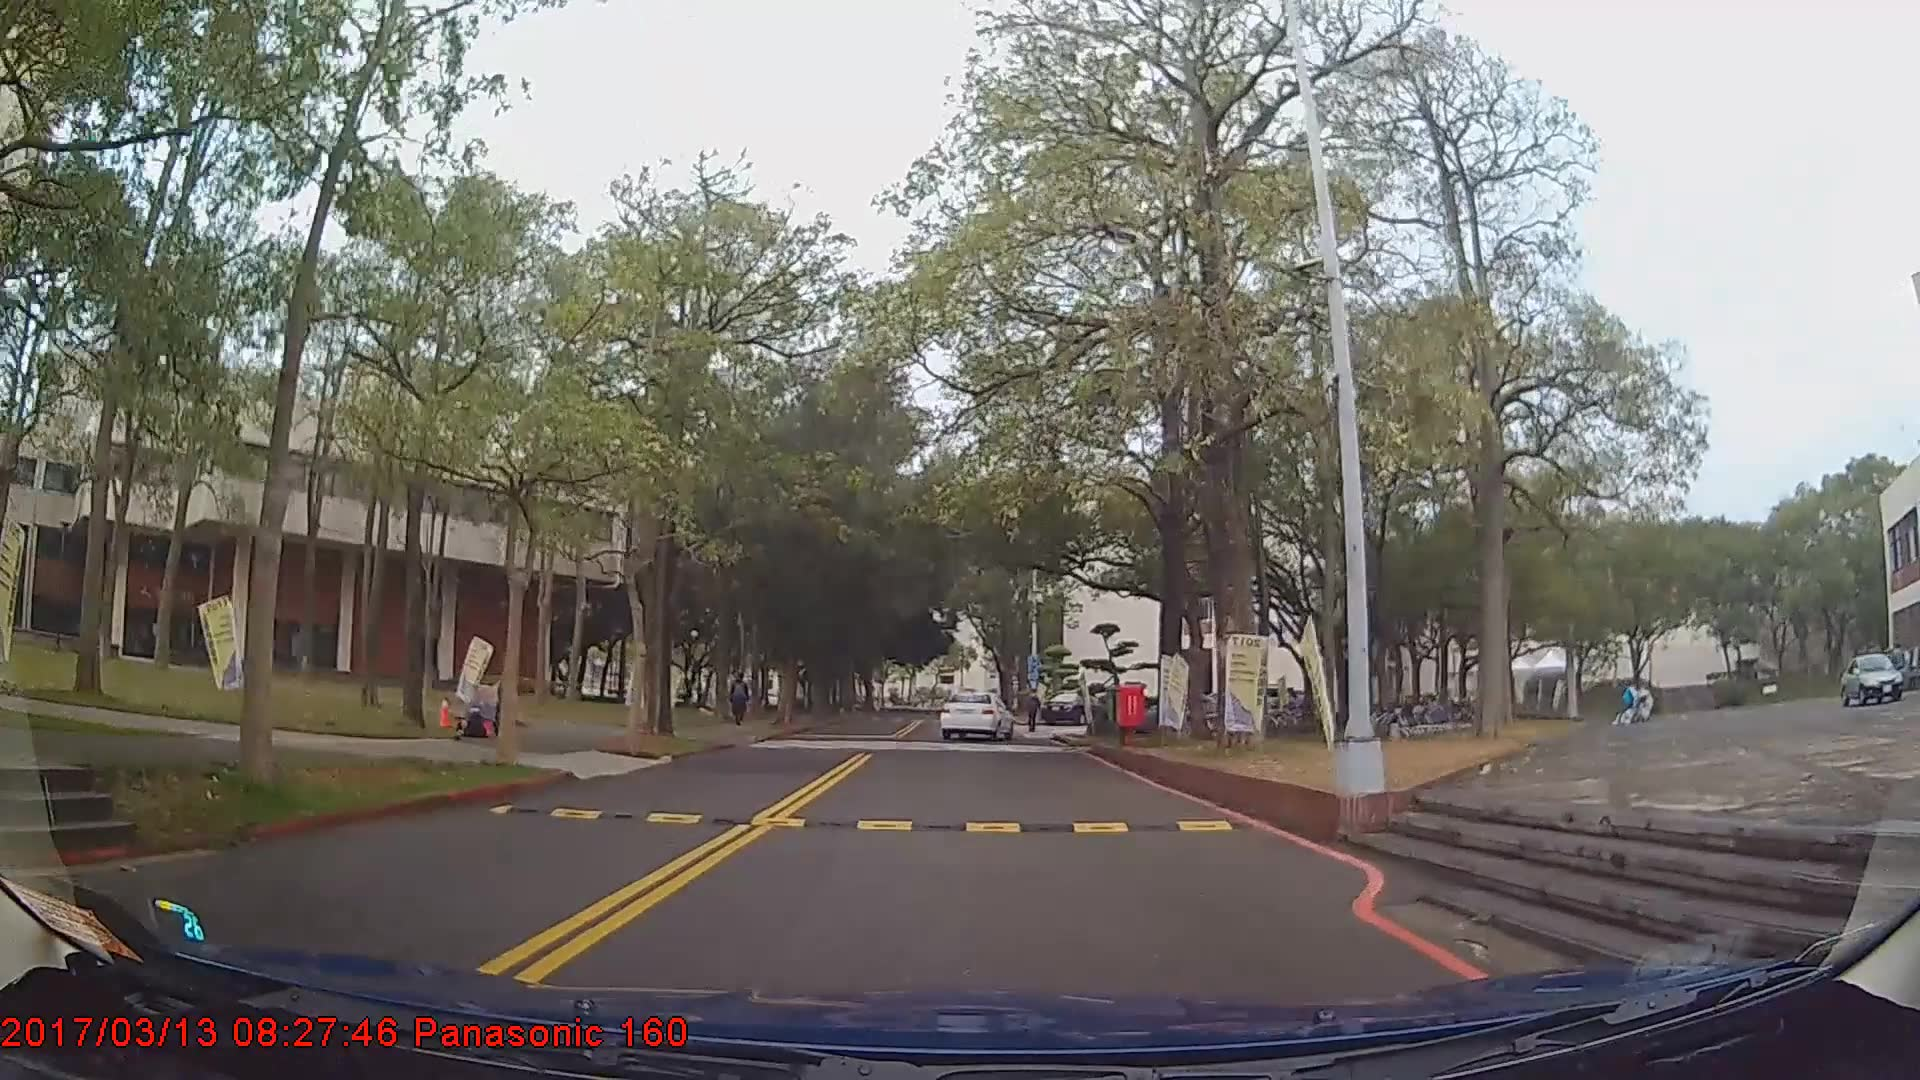pedestrian: (730, 674, 754, 728)
vehicle: (1835, 647, 1911, 709), (939, 689, 1013, 742), (1041, 687, 1097, 720)
